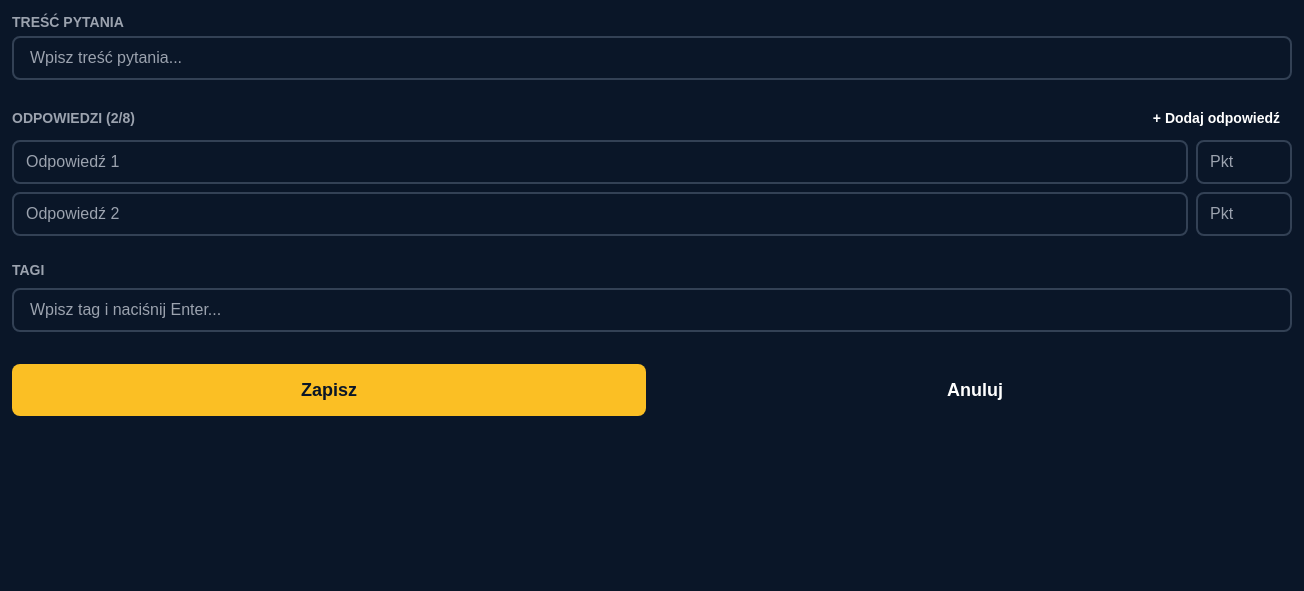
QuestionEditorForm › should show validation errors for empty question, empty answer text, and invalid points
Click the button "Zapisz": (329, 390) [12,364,646,416]
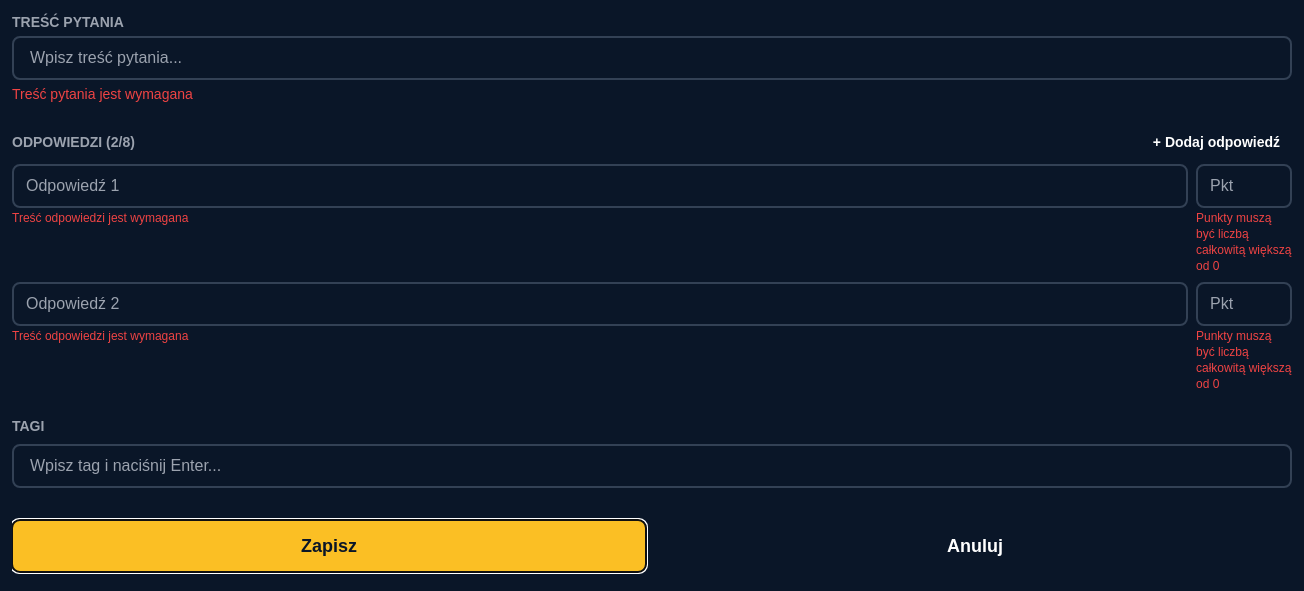
Check: the text "Treść pytania jest wymagana" is shown, box [12,86,193,102]
Check: the 1st text "Treść odpowiedzi jest wymagana" is shown, box [12,211,188,225]
Check: the 1st text "Punkty muszą być liczbą całkowitą większą od 0" is shown, box [1196,210,1292,274]
